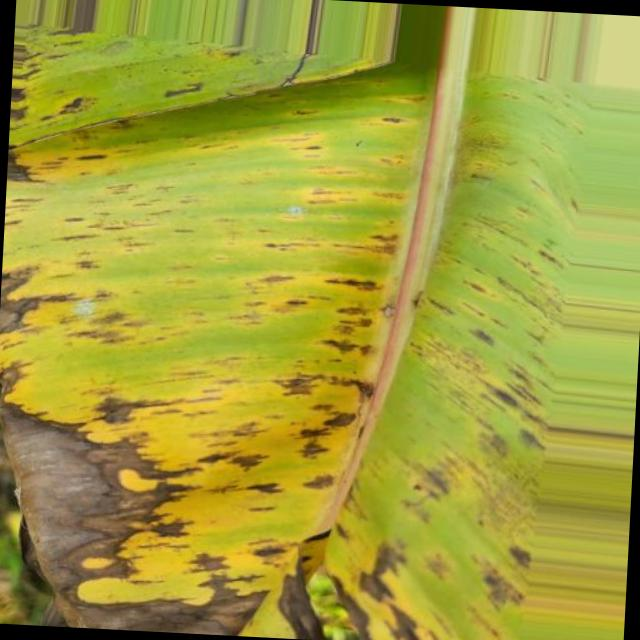Banana_Black_Sigatoka: (0, 143, 207, 633), (189, 459, 545, 640), (255, 251, 567, 454)
